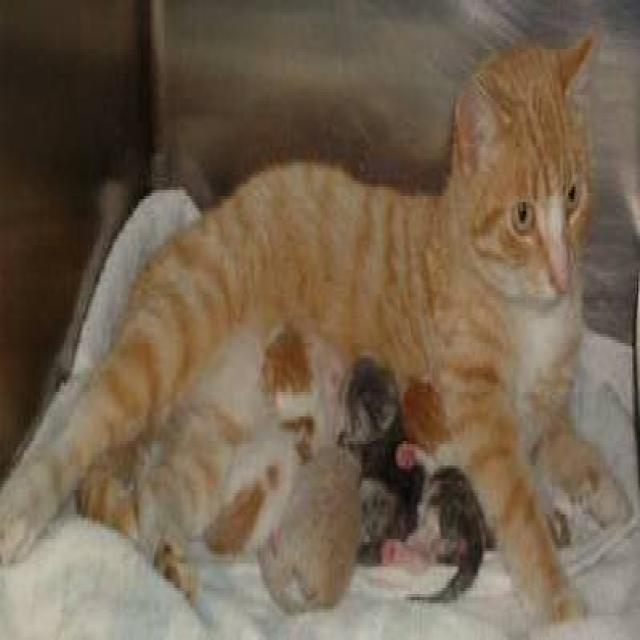cat: (0, 30, 630, 621)
